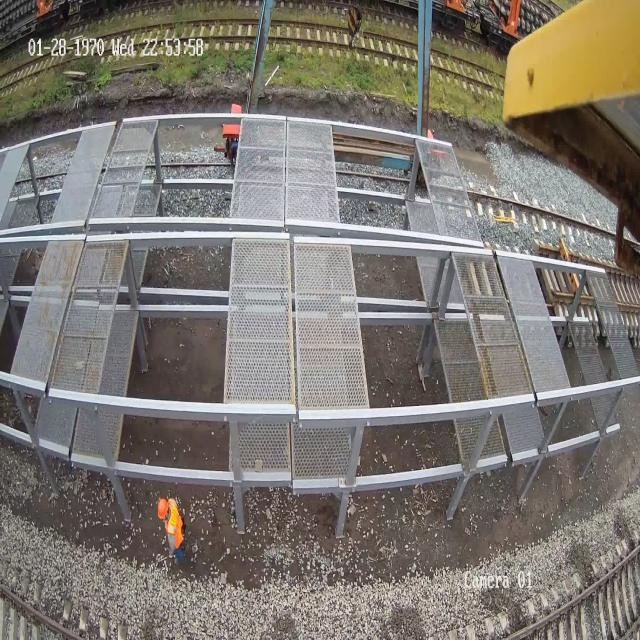Helmet: (157, 498, 168, 520)
Person: (157, 497, 186, 563)
